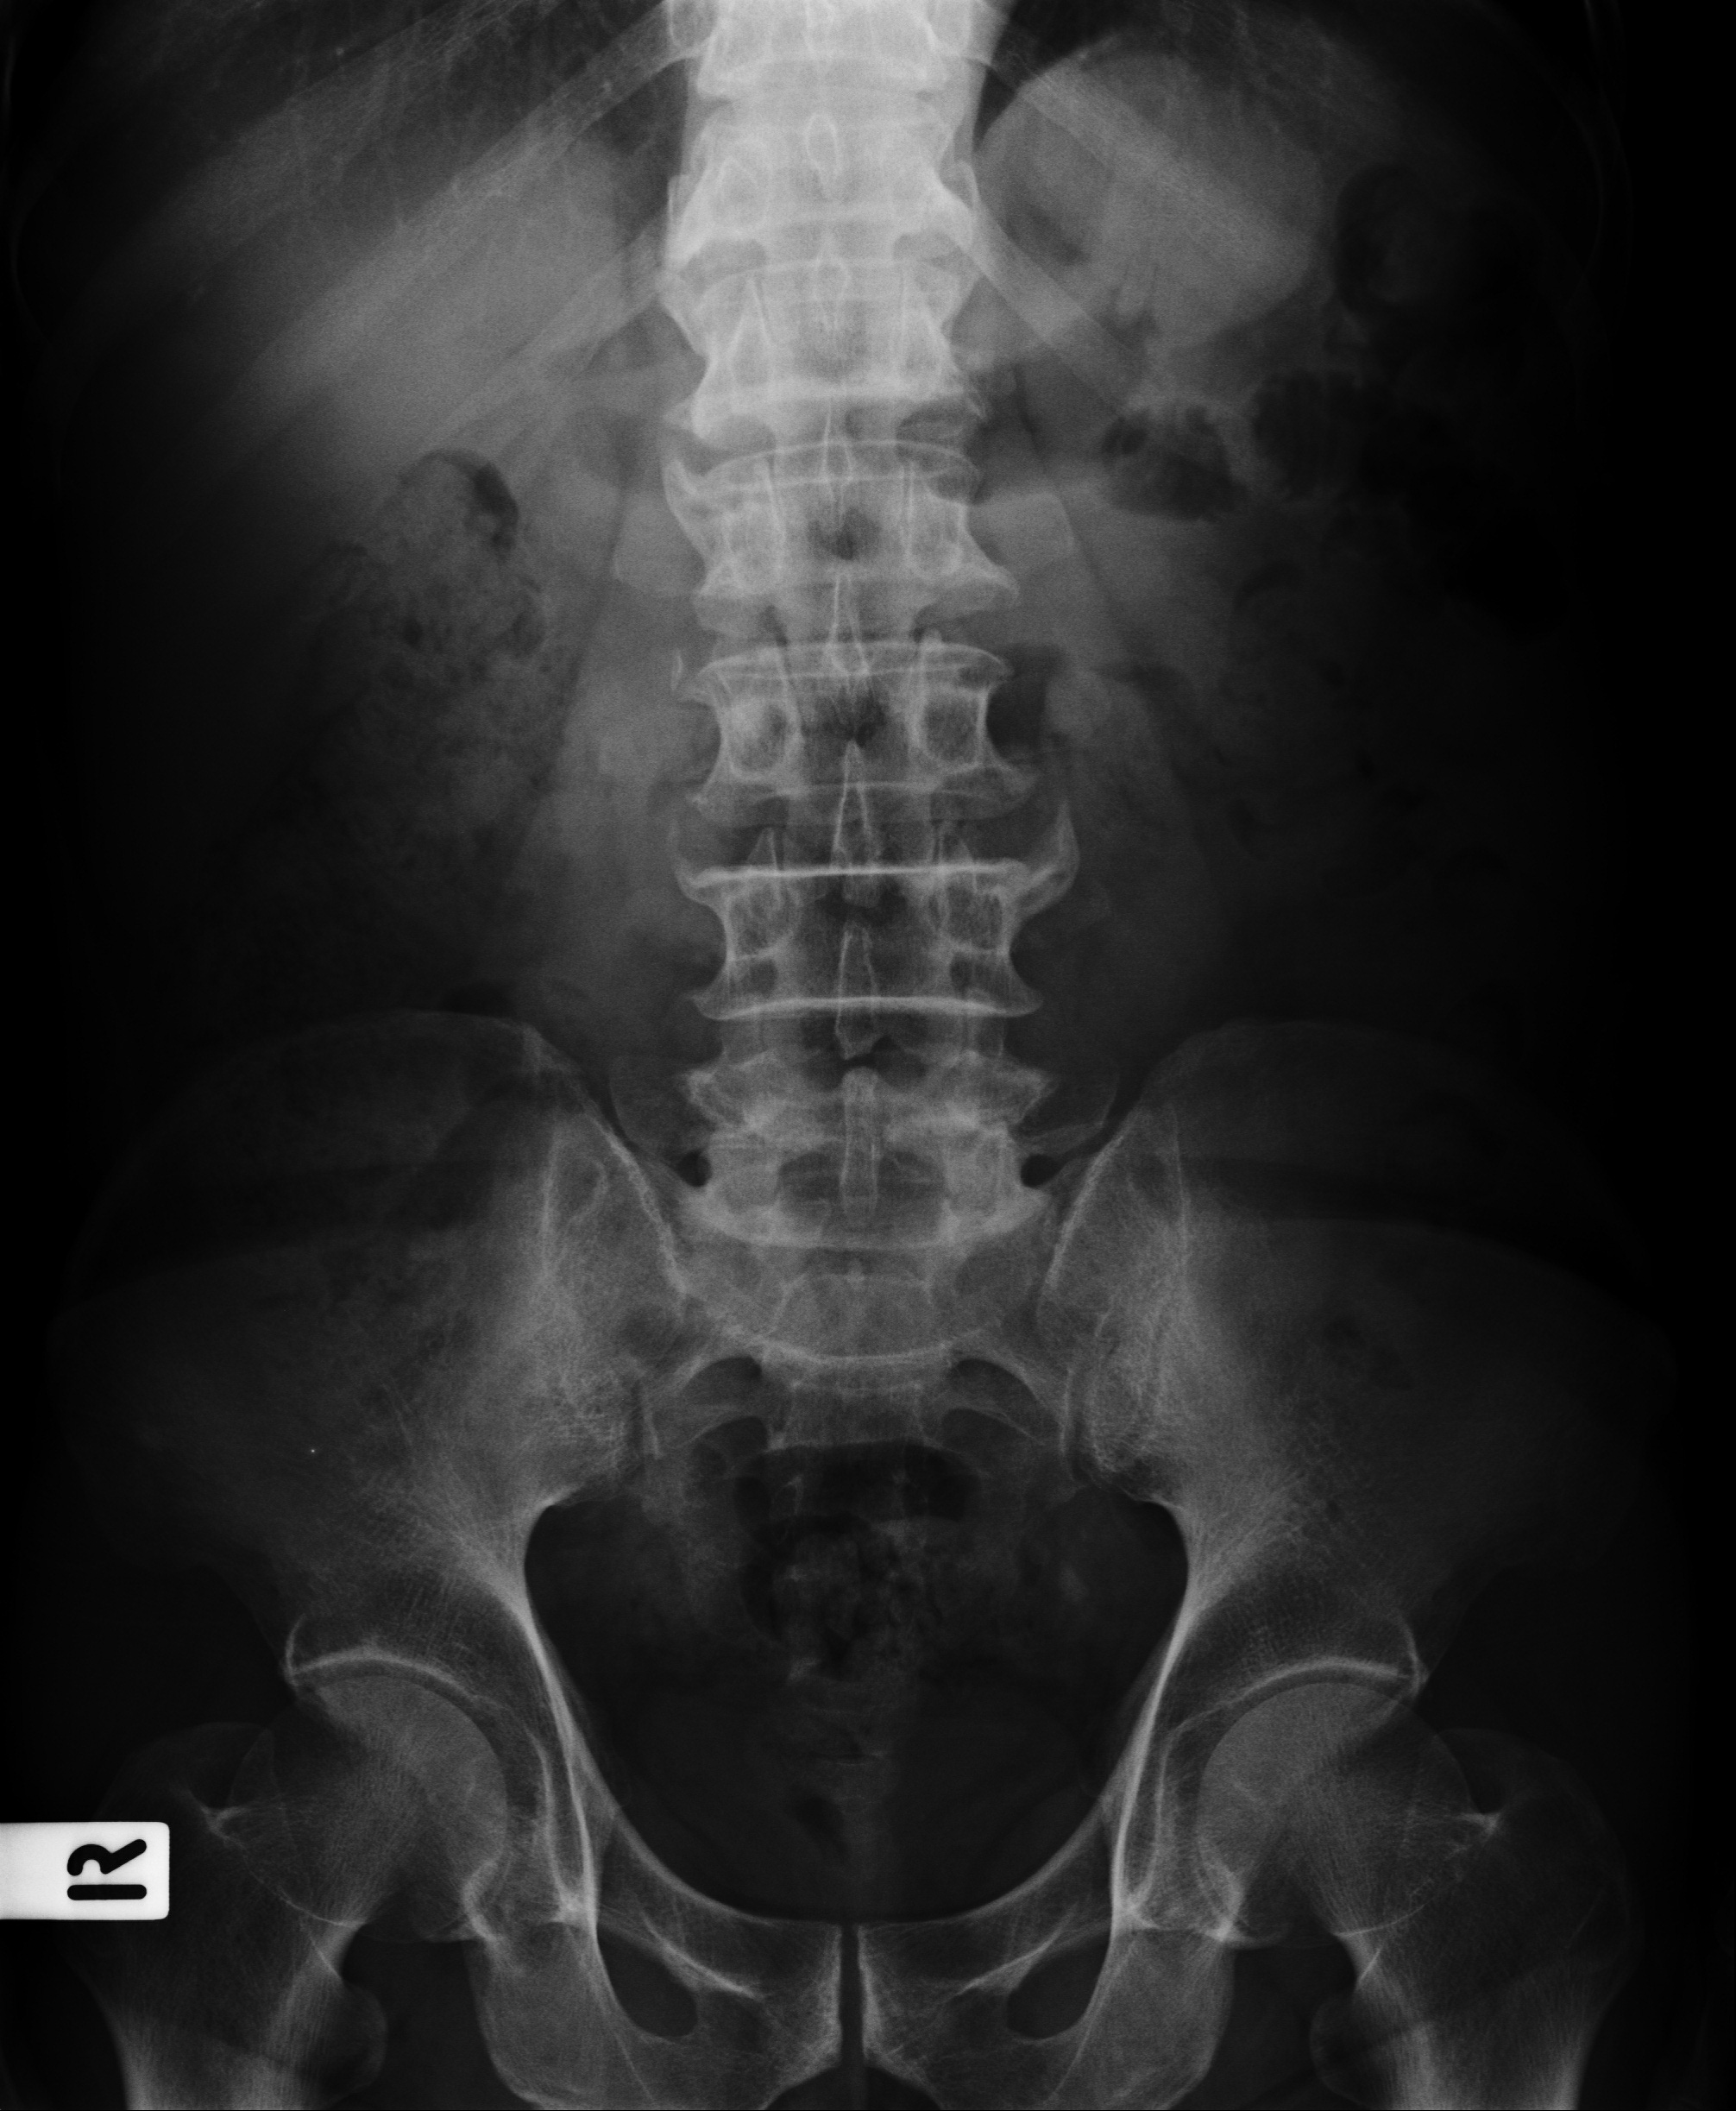lumbar scoliosis: (659, 14, 1042, 1269)
